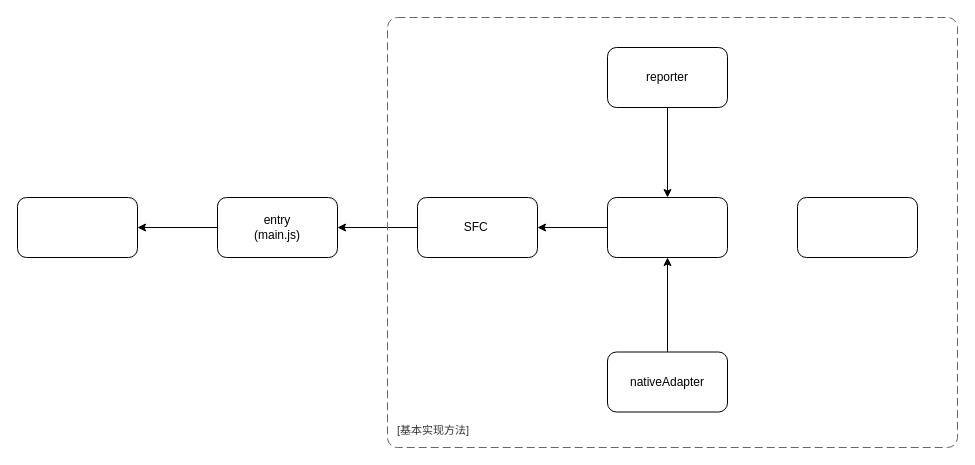
Some shapes in this 975 by 465 pixel diagram are drawn without their labels. Each missing label, with the centre of its shape:
adMethod: point (667, 227)
dist: point (77, 227)
utils: point (857, 227)
